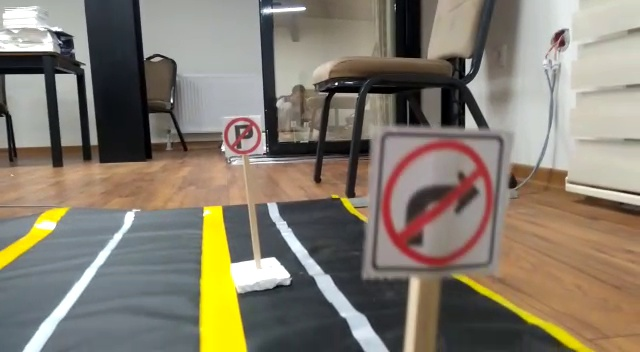park_yapilmaz: (219, 113, 264, 156)
saga_donulmez: (374, 135, 497, 270)
